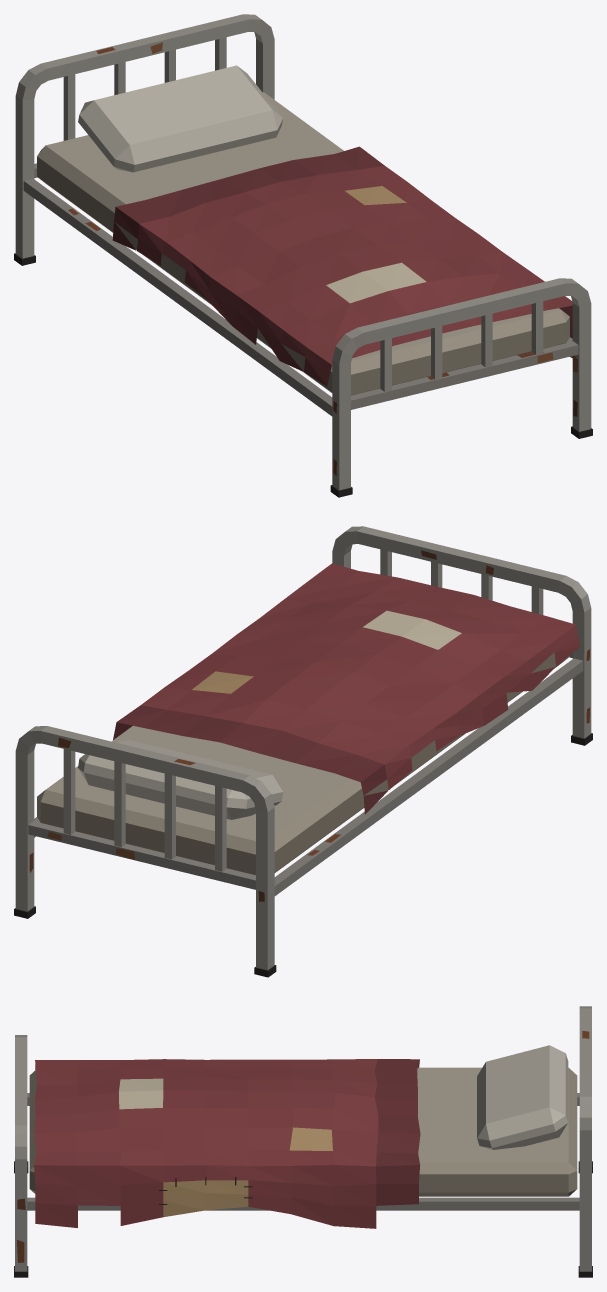
Rendered from tl_veh_metal_bed_v01.glb.
3 renders of one model, top to bottom at view 1: azimuth 30°, elevation 25°; view 2: azimuth 150°, elevation 25°; view 3: azimuth 270°, elevation 25°, orthographic. The views are drawn at different scales.
Parts seen in each view (by area): view 1: tl_veh_metal_bed_v01, blanket; view 2: blanket, tl_veh_metal_bed_v01; view 3: blanket, tl_veh_metal_bed_v01.
Boxes of the visible parts, x1,y1,x2,y2 form: tl_veh_metal_bed_v01: (14, 14, 592, 497); blanket: (112, 146, 572, 386); blanket: (113, 563, 580, 814); tl_veh_metal_bed_v01: (14, 526, 592, 977); blanket: (34, 1059, 420, 1228); tl_veh_metal_bed_v01: (14, 1006, 592, 1277).
Size of the model in its own units: 0.9215 by 0.652 by 2.01.
